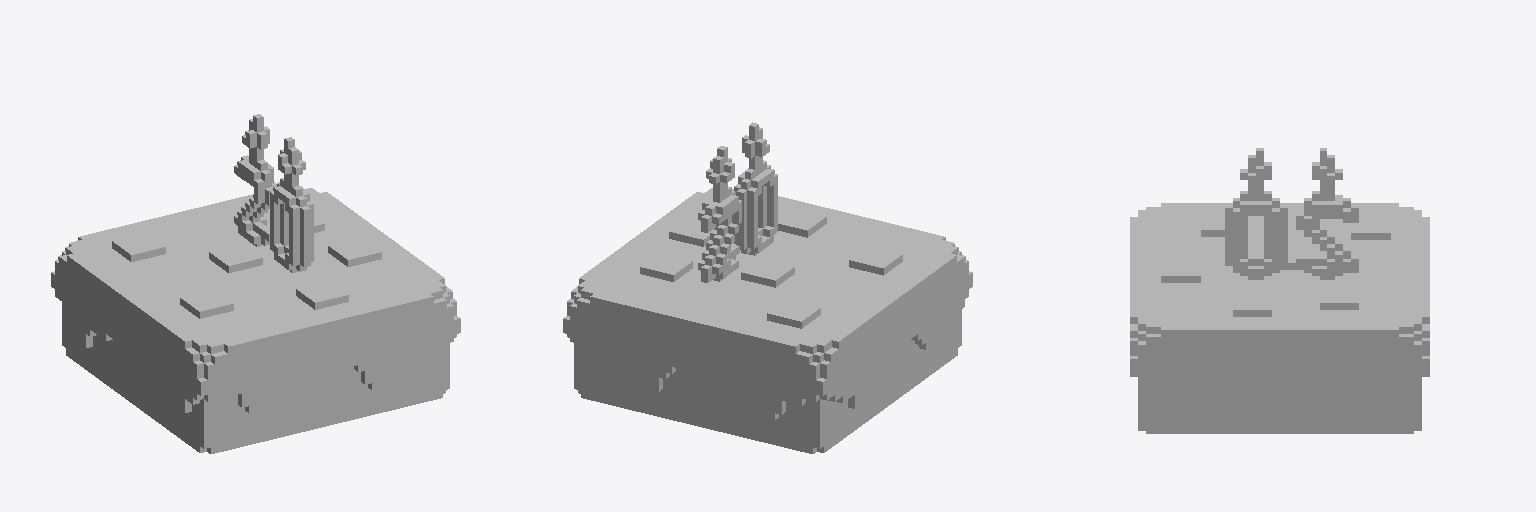
Rendered from cake.obj.
The picture shows the model from 3 angles: view 1: azimuth 30°, elevation 25°; view 2: azimuth 150°, elevation 25°; view 3: azimuth 270°, elevation 25°; orthographic projection.
Visible parts, largest first — view 1: object 1; view 2: object 1; view 3: object 1.
Boxes of the visible parts, <box> form: object 1: <box>51,114,460,453</box>; object 1: <box>563,122,972,453</box>; object 1: <box>1130,148,1429,433</box>.
Size of the model in its own units: 3.8 by 3.3 by 3.8.